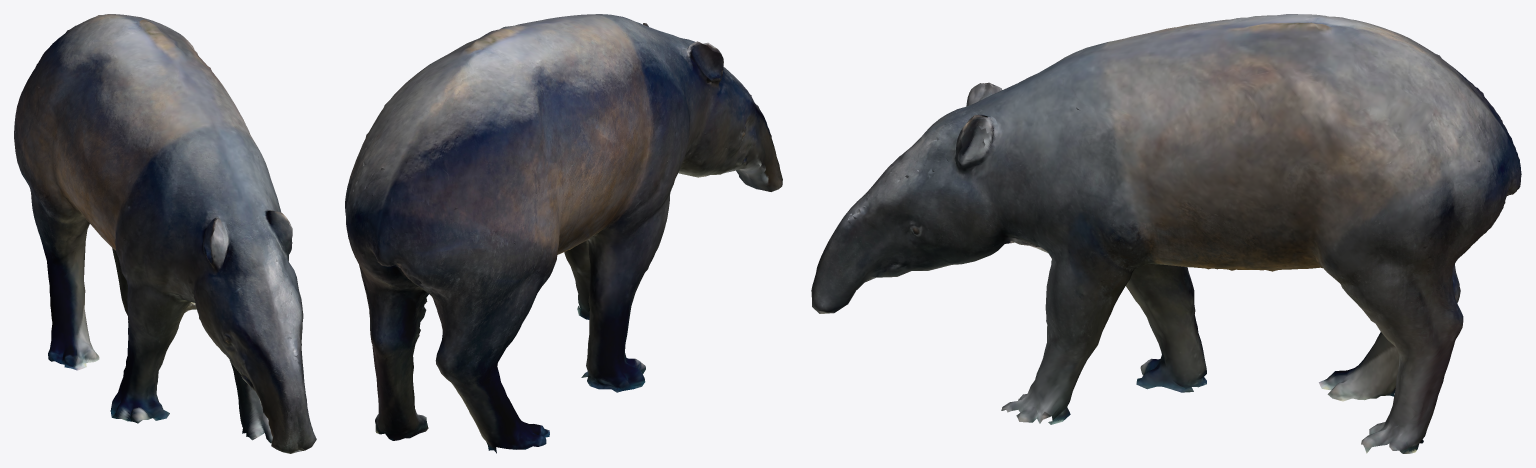
The model's file is Tapir.fbx.
The picture shows the model from 3 angles, left to right: view 1: azimuth 30°, elevation 25°; view 2: azimuth 150°, elevation 25°; view 3: azimuth 270°, elevation 25°; orthographic projection. The views are drawn at different scales.
Parts seen in each view (by area): view 1: Object_4; view 2: Object_4; view 3: Object_4.
Boxes of the visible parts, <box> form: Object_4: <box>14,14,316,453</box>; Object_4: <box>345,14,782,453</box>; Object_4: <box>811,14,1521,453</box>.
Bounding box in the file's own units: 70.38 × 129 × 207.
Materials: 1 (1 with a texture image).
